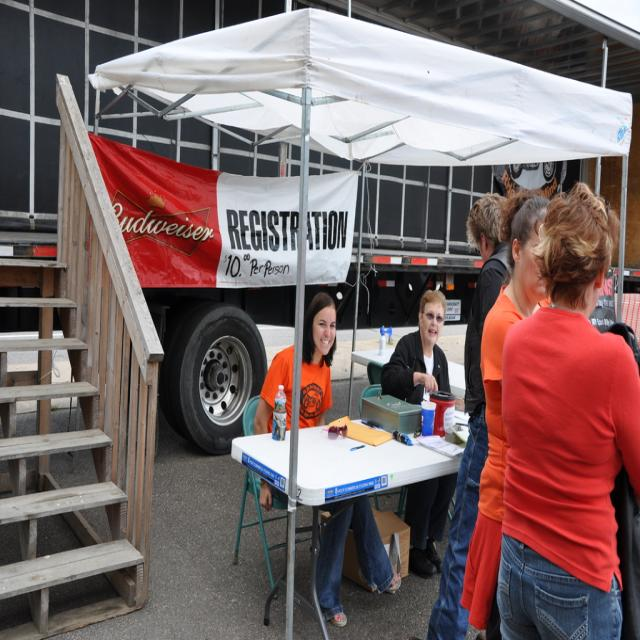desk: (232, 416, 460, 584)
person: (495, 182, 640, 634), (464, 189, 554, 632), (434, 193, 515, 631), (245, 290, 337, 618), (380, 288, 452, 405)
